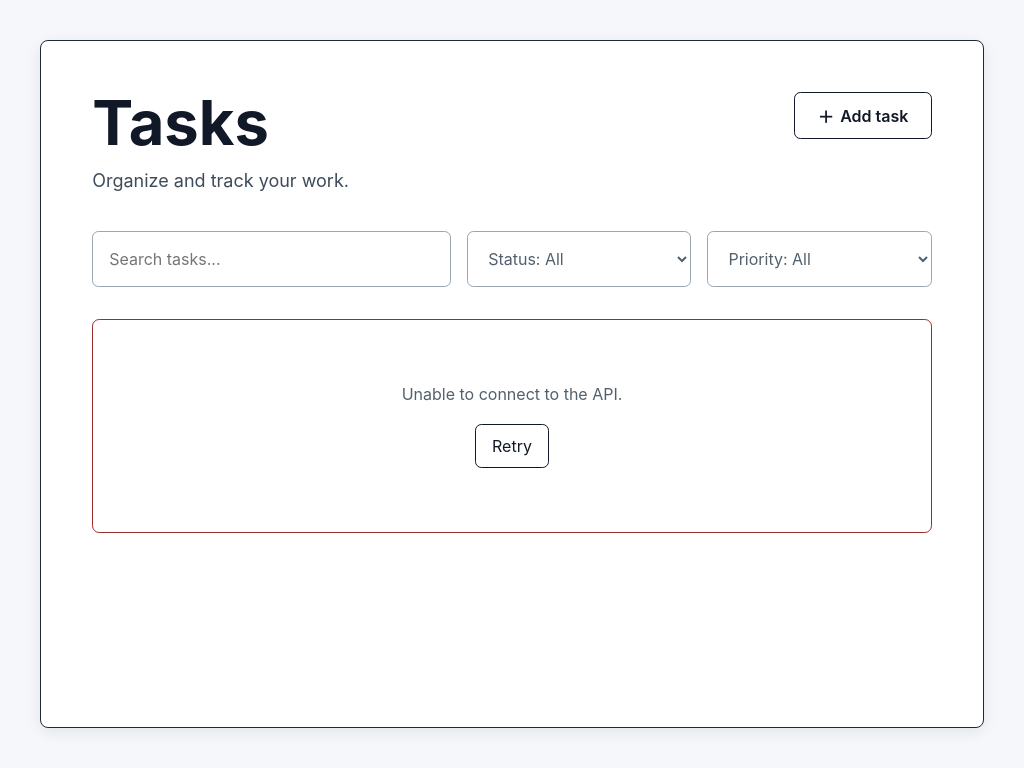
Test case: TasksListPage loading and navigation › shows a load error and retries the request
The width and height of the screenshot is (1024, 768).
Check: the text "Unable to connect to the API." is shown, box x1=402 y1=384 x2=622 y2=404
Click the button "Retry" at [512, 446], box x1=475 y1=424 x2=549 y2=468
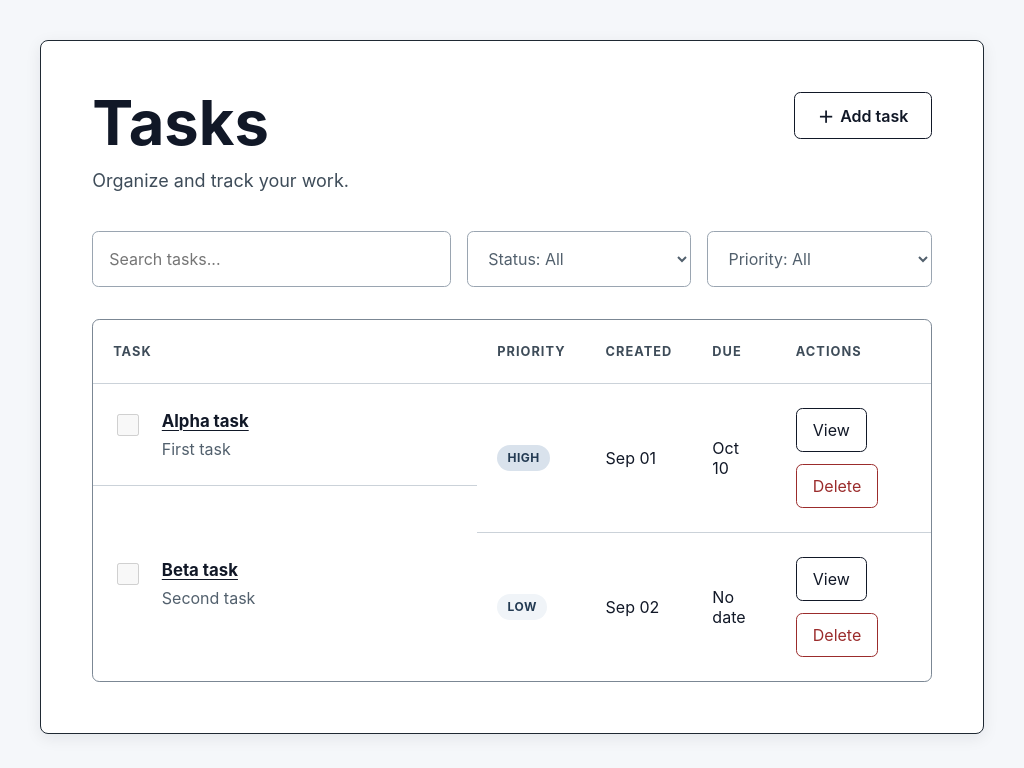
Check: the link "Alpha task" is shown, box x1=162 y1=411 x2=249 y2=431
